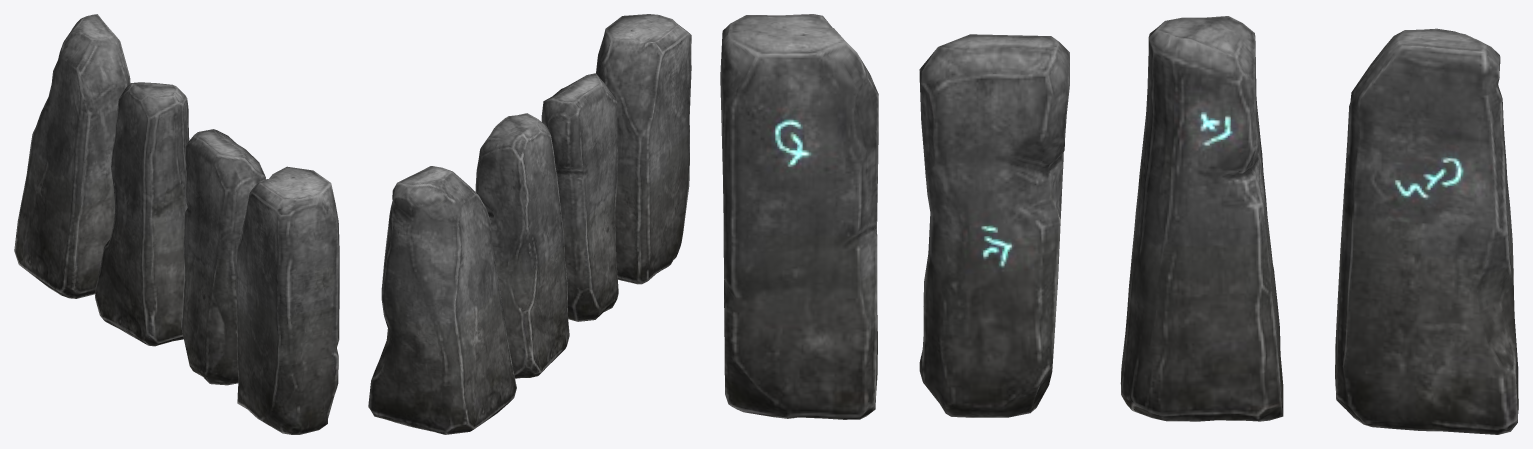
File: env_ruins.glb
3 renders of one model, left to right at view 1: azimuth 30°, elevation 25°; view 2: azimuth 150°, elevation 25°; view 3: azimuth 270°, elevation 25°, orthographic. The views are drawn at different scales.
Parts seen in each view (by area): view 1: R_Rock_2_low, R_Rock_3_low, R_Rock_4_low, R_Rock_1_low; view 2: R_Rock_3_low, R_Rock_2_low, R_Rock_4_low, R_Rock_1_low; view 3: R_Rock_3_low, R_Rock_2_low, R_Rock_4_low, R_Rock_1_low.
Part boxes in pixels (<box>): R_Rock_2_low: <box>236,166,339,434</box>; R_Rock_3_low: <box>14,14,130,298</box>; R_Rock_4_low: <box>95,82,189,346</box>; R_Rock_1_low: <box>181,129,265,385</box>; R_Rock_3_low: <box>368,166,516,434</box>; R_Rock_2_low: <box>596,14,691,284</box>; R_Rock_4_low: <box>475,113,569,378</box>; R_Rock_1_low: <box>541,73,618,321</box>; R_Rock_3_low: <box>1335,28,1518,434</box>; R_Rock_2_low: <box>720,14,878,419</box>; R_Rock_4_low: <box>1120,16,1283,421</box>; R_Rock_1_low: <box>919,34,1069,417</box>.
Size of the model in its own units: 155 by 351 by 683.
1 material, 1 textured.
